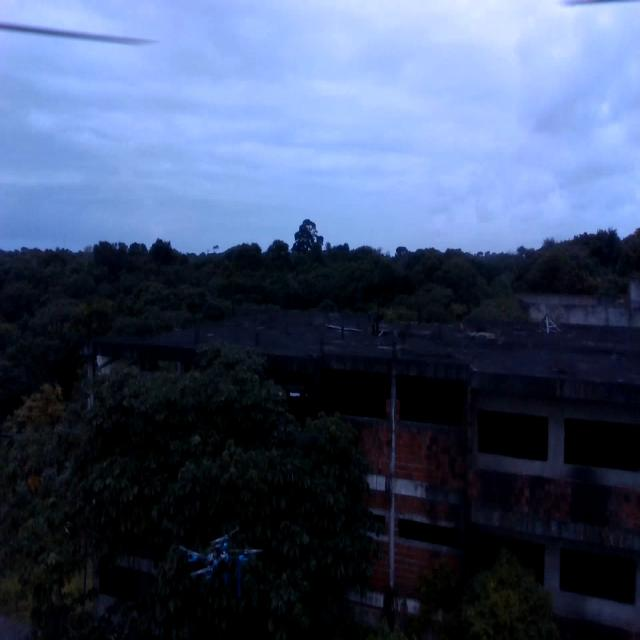-uav-: (174, 514, 268, 612)
